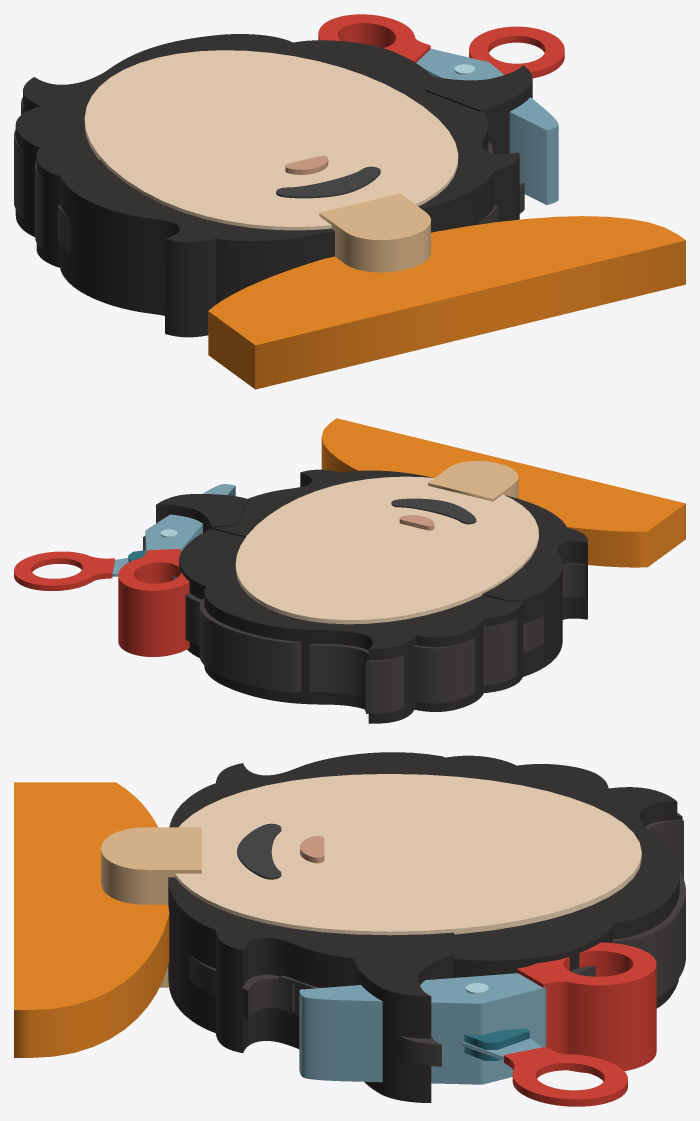
File: emoji_u1f487_1f3fb.glb
The picture shows the model from 3 angles, top to bottom: view 1: azimuth 30°, elevation 25°; view 2: azimuth 150°, elevation 25°; view 3: azimuth 270°, elevation 25°; orthographic projection. The views are drawn at different scales.
Parts seen in each view (by area): view 1: emoji_u1f487_1f3fb; view 2: emoji_u1f487_1f3fb; view 3: emoji_u1f487_1f3fb.
Part boxes in pixels (x1,y1,x2,y2): emoji_u1f487_1f3fb: [14, 14, 685, 389]; emoji_u1f487_1f3fb: [14, 418, 685, 723]; emoji_u1f487_1f3fb: [14, 752, 685, 1106].
Bounding box in the file's own units: 0.0349 × 0.0066 × 0.0331.
